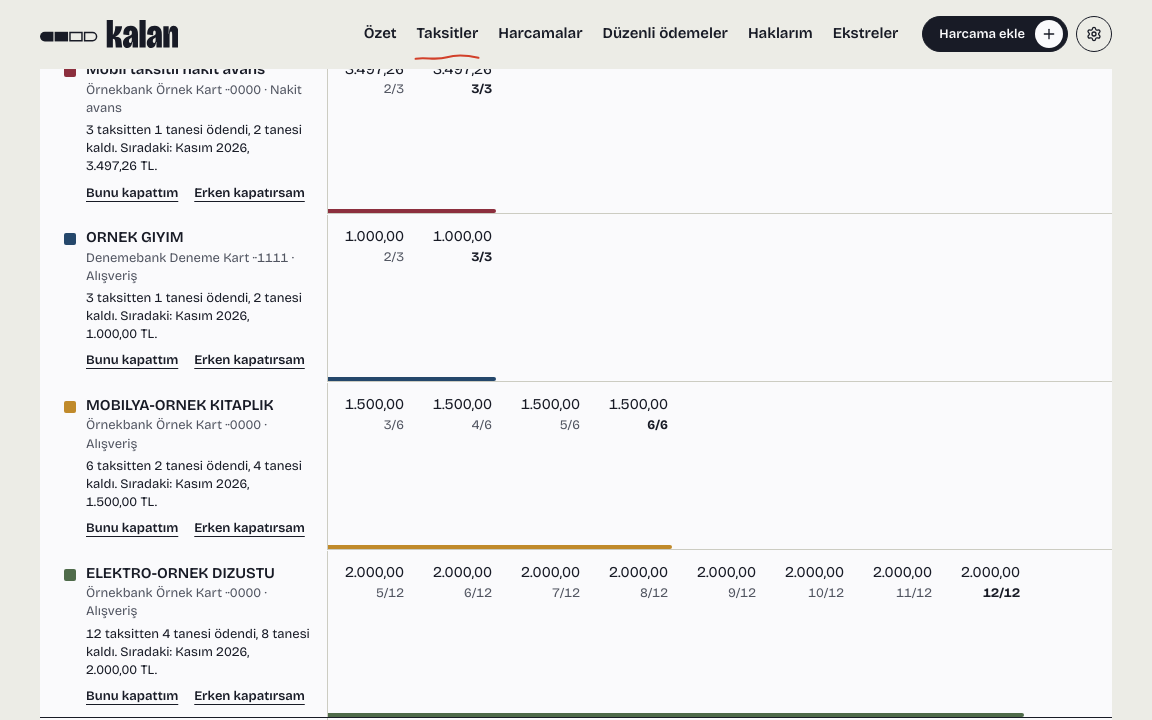
installments: plain sentences and "I paid this off" › closes a plan after asking, lists it faded at the bottom and opens it again
This screenshot has width=1152, height=720.
(page scrolled)
Step 1. Click the button with aria-label "ORNEK GIYIM planını kapattım" → click(132, 360), box [86,351,178,369]
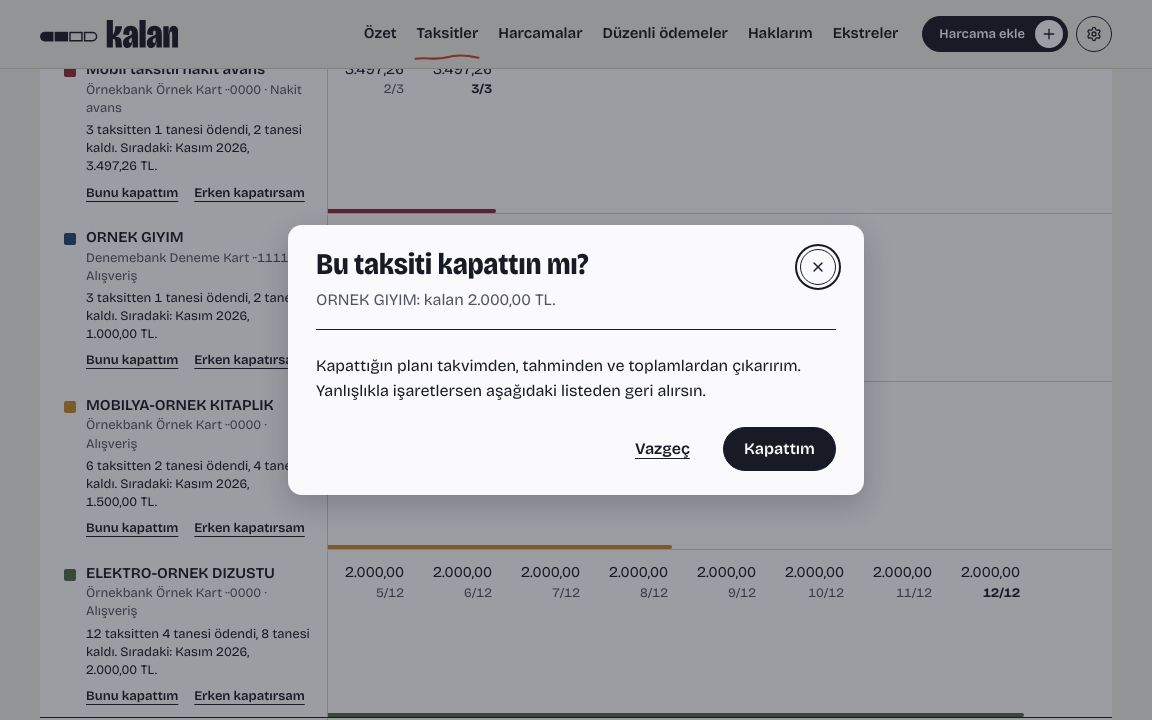
Step 2. Click the button "Kapattım Kapattım" → click(779, 449), box [723,427,836,471]
(page scrolled)
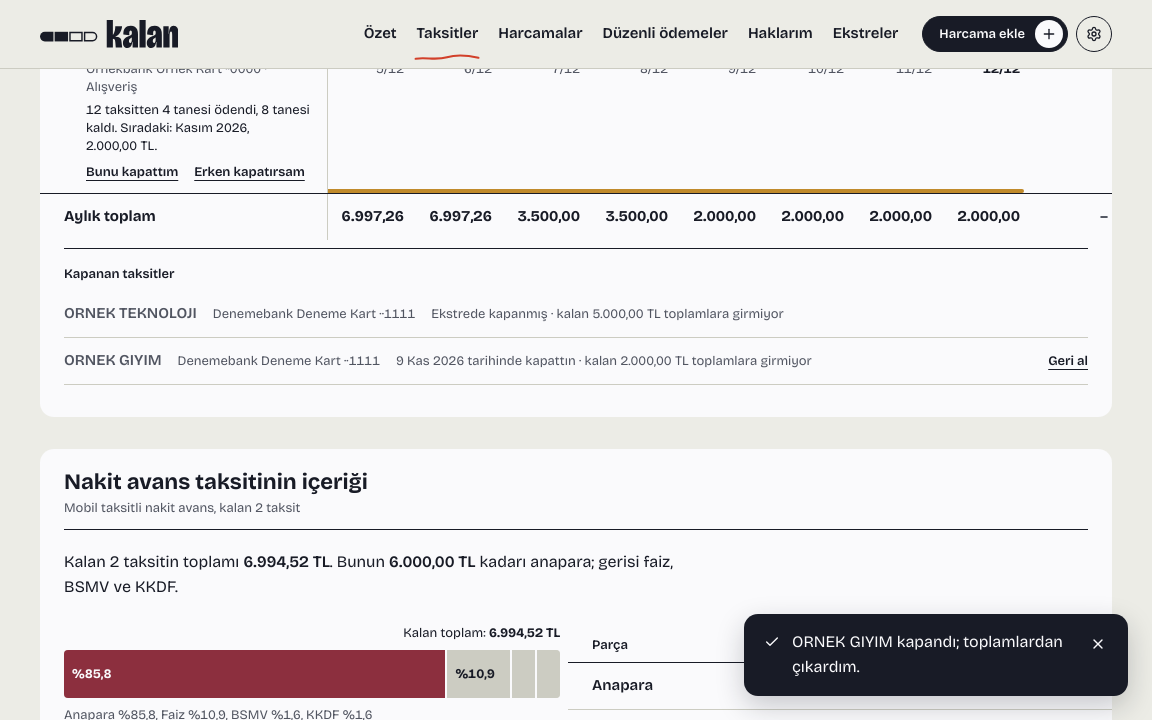
Expected: the text "ORNEK GIYIM" is shown, [64,350,162,372]
Now the text "ORNEK GIYIM kapandı; toplamlardan çıkardım." is shown, box [792,630,1072,680]
Step 3. Click the button with aria-label "ORNEK GIYIM planını yeniden aç" → click(1068, 361), box [1048,352,1088,370]
(page scrolled)
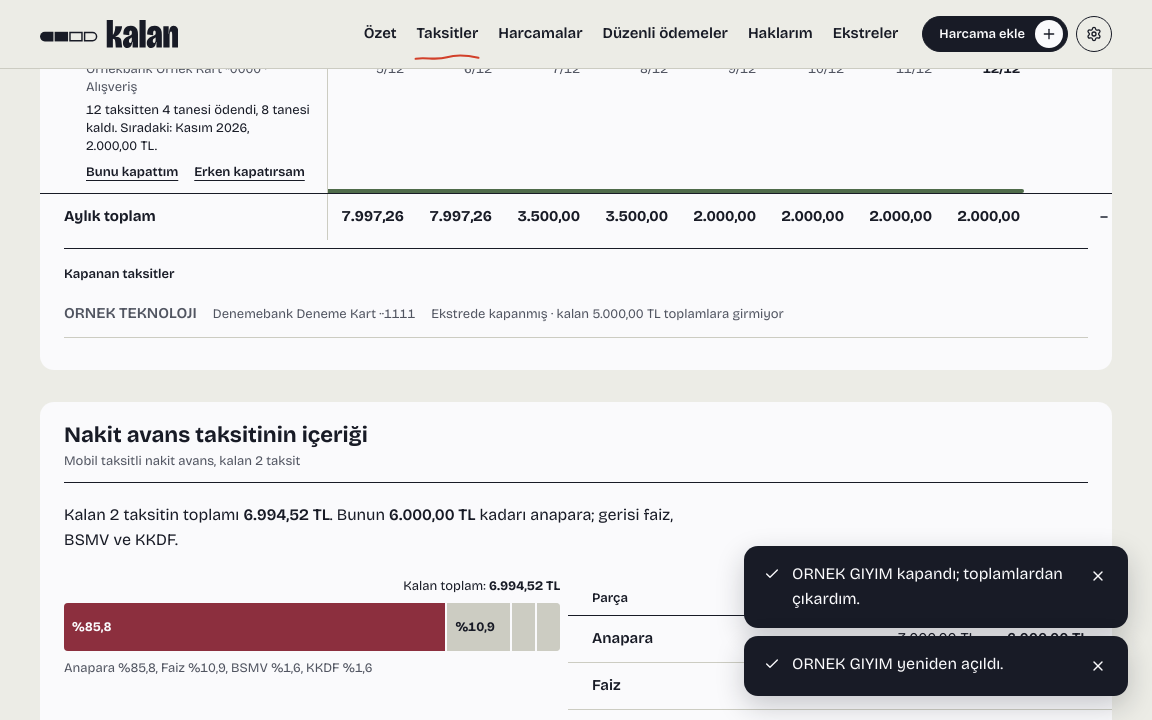
Now the text "ORNEK GIYIM yeniden açıldı." is shown, box [792,654,1003,673]
